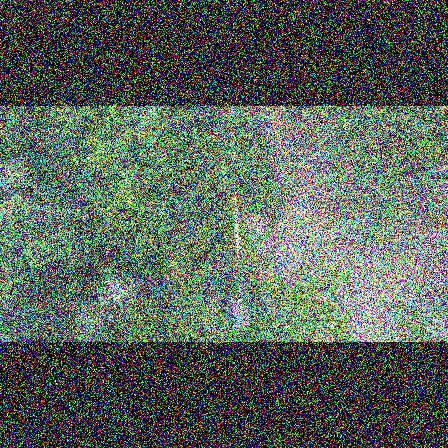Dead: (94, 273, 147, 310), (225, 290, 253, 332)
